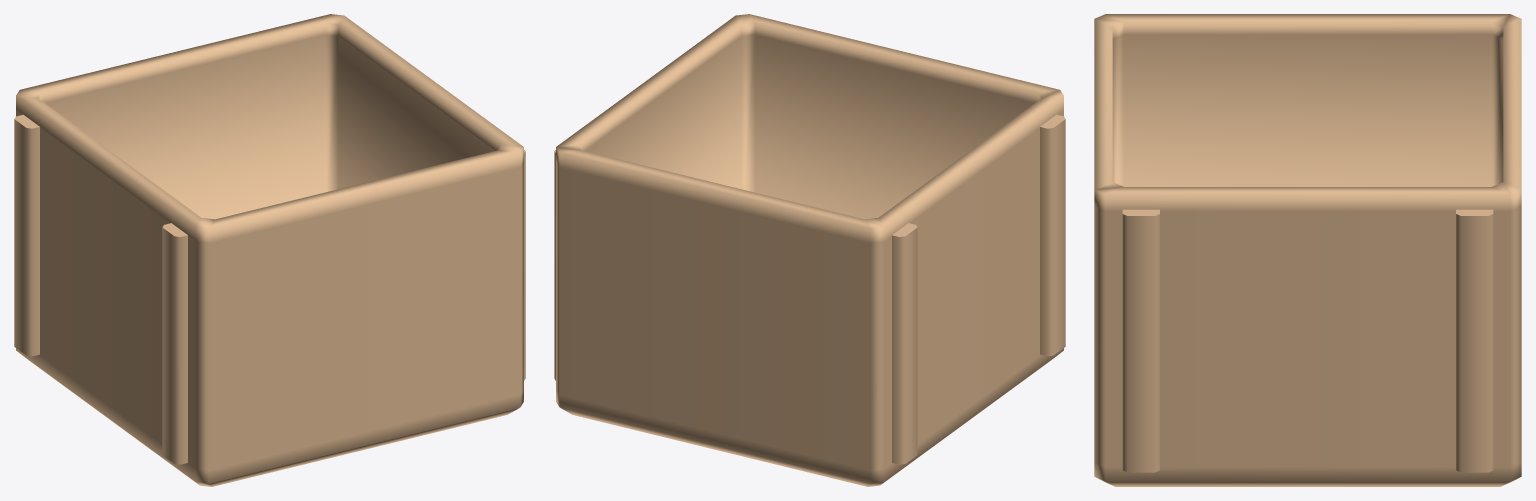
File: CrateSmallA.fbx
3 views of the same model, side by side, from view 1: azimuth 30°, elevation 25°; view 2: azimuth 150°, elevation 25°; view 3: azimuth 270°, elevation 25° (orthographic). The views are drawn at different scales.
Visible parts, largest first — view 1: CrateSmallA; view 2: CrateSmallA; view 3: CrateSmallA.
Part boxes in pixels (bbox=[...]): CrateSmallA: bbox=[14, 14, 525, 486]; CrateSmallA: bbox=[554, 14, 1065, 486]; CrateSmallA: bbox=[1094, 14, 1521, 486].
Bounding box in the file's own units: 80.14 × 57.57 × 75.
